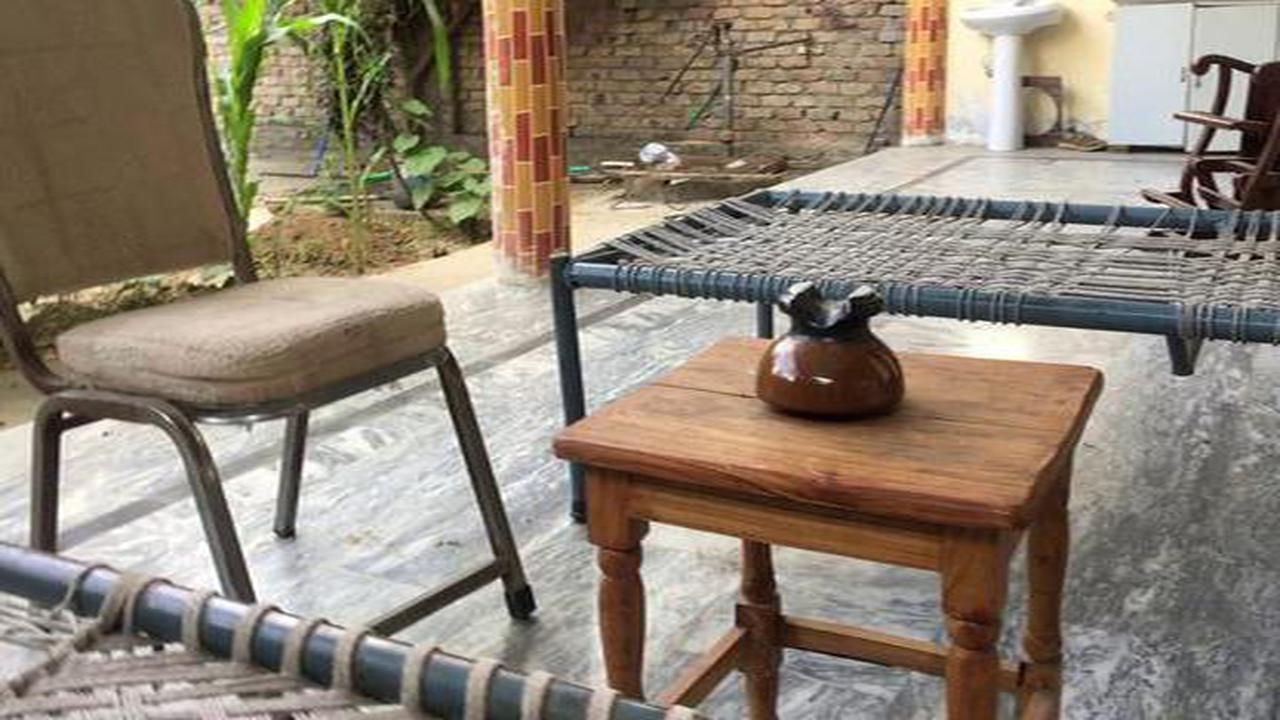insulator_pin: (736, 269, 921, 423)
